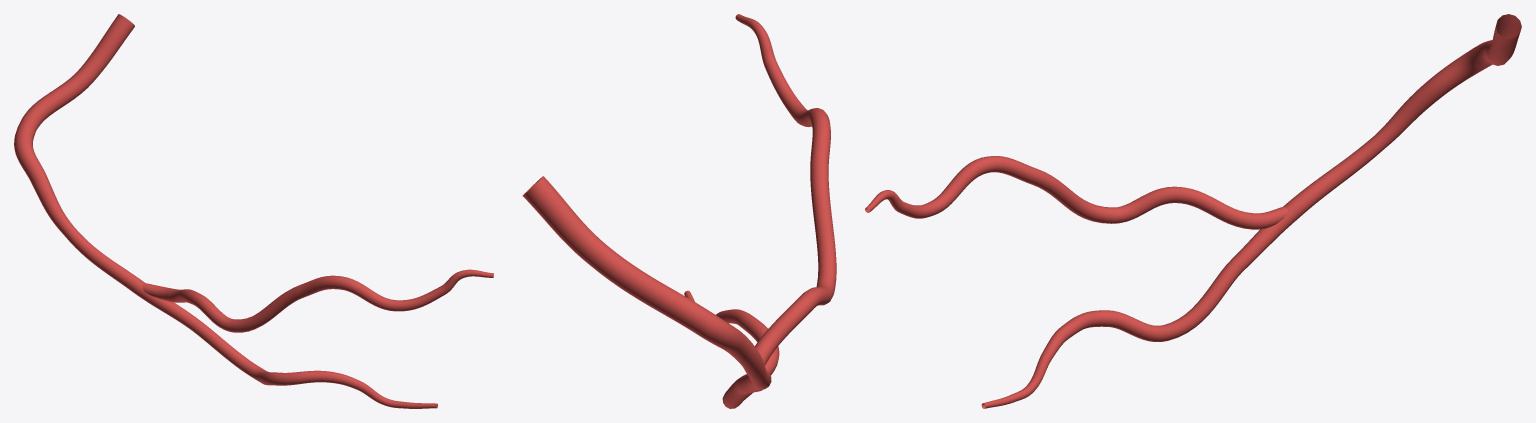
The picture shows the model from 3 angles, left to right: view 1: azimuth 30°, elevation 25°; view 2: azimuth 150°, elevation 25°; view 3: azimuth 270°, elevation 25°; orthographic projection. The views are drawn at different scales.
Visible parts, largest first — view 1: 右侧前额动脉; view 2: 右侧前额动脉; view 3: 右侧前额动脉.
Part boxes in pixels (x1,y1,x2,y2): 右侧前额动脉: (14, 14, 493, 408); 右侧前额动脉: (522, 14, 836, 408); 右侧前额动脉: (865, 14, 1521, 408).
Size of the model in its own units: 0.0424 by 0.0458 by 0.0812.
